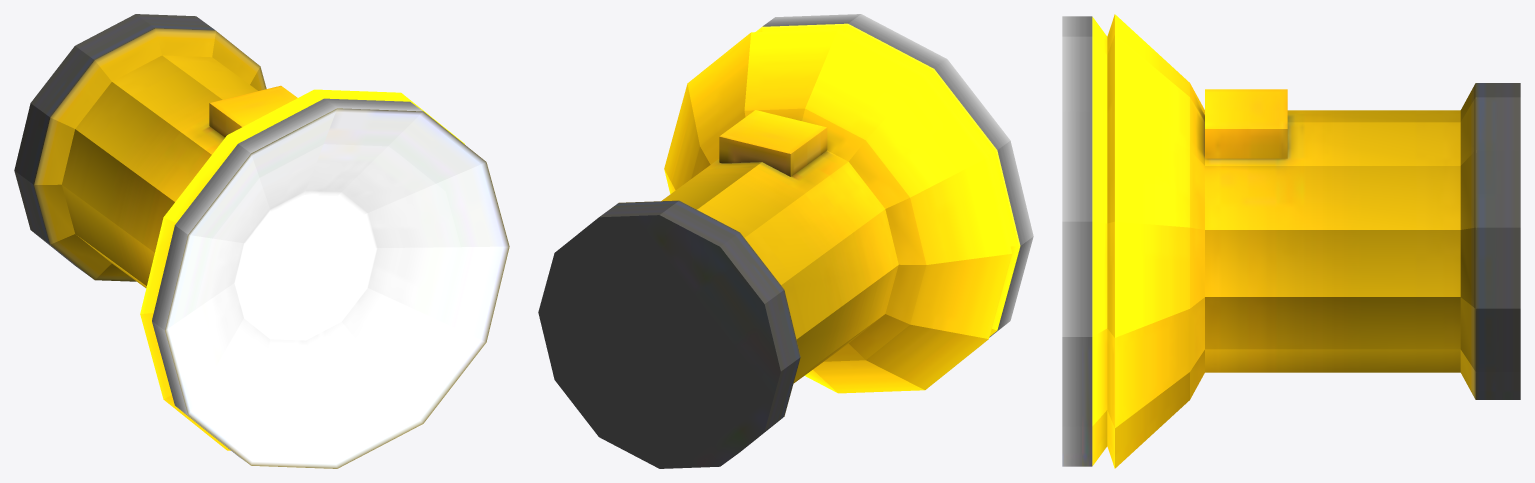
File: animal_company_-_flashlight_mega.glb
The picture shows the model from 3 angles, left to right: view 1: azimuth 30°, elevation 25°; view 2: azimuth 150°, elevation 25°; view 3: azimuth 270°, elevation 25°; orthographic projection. The views are drawn at different scales.
Visible parts, largest first — view 1: Flashlight_1; view 2: Flashlight_1; view 3: Flashlight_1.
Part boxes in pixels (box(x1,y1,x2,y2)): Flashlight_1: box(14, 14, 509, 468); Flashlight_1: box(538, 14, 1033, 468); Flashlight_1: box(1062, 14, 1520, 468).
Bounding box in the file's own units: 0.3646 × 0.3646 × 0.366.
Materials: 2 (2 with a texture image).
